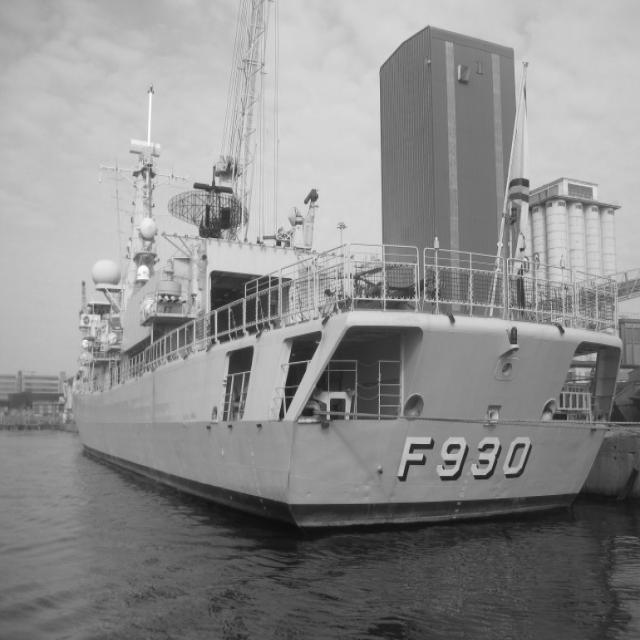Fragata: (65, 57, 626, 546)
